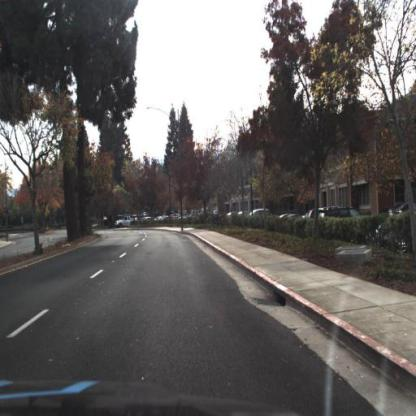car: (312, 205, 364, 225), (112, 211, 137, 228)
